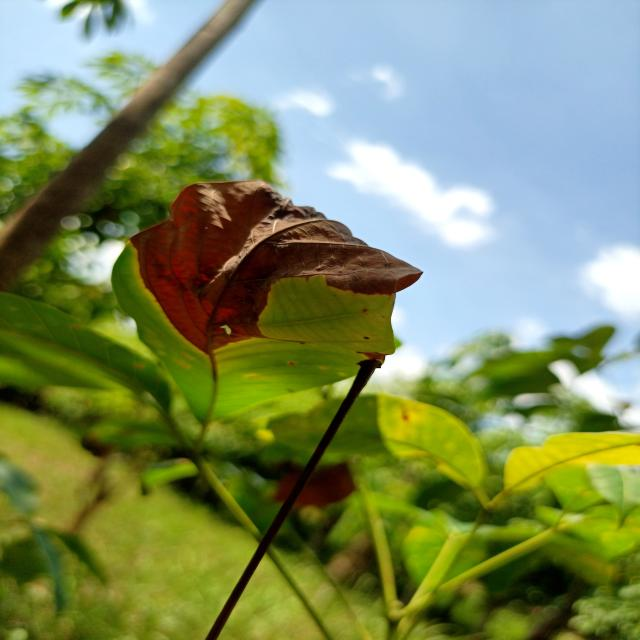Colletotrichum: (363, 336, 369, 339)
Leaf-Blight: (127, 180, 424, 355)
